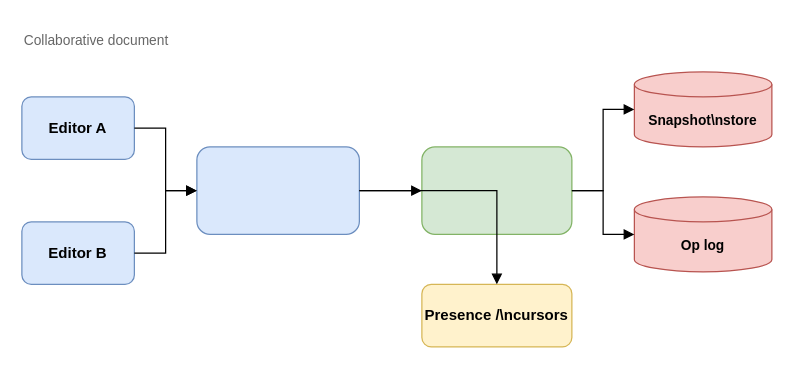
Image size: 794x369. Some labels were removed from this diagram. The shapes that lost their labels are listed below. From the top down, each one's centre as x and y in pixels, then its label:
(x=277, y=190): Collab gateway\n(WS)
(x=496, y=190): OT / CRDT\nengine
